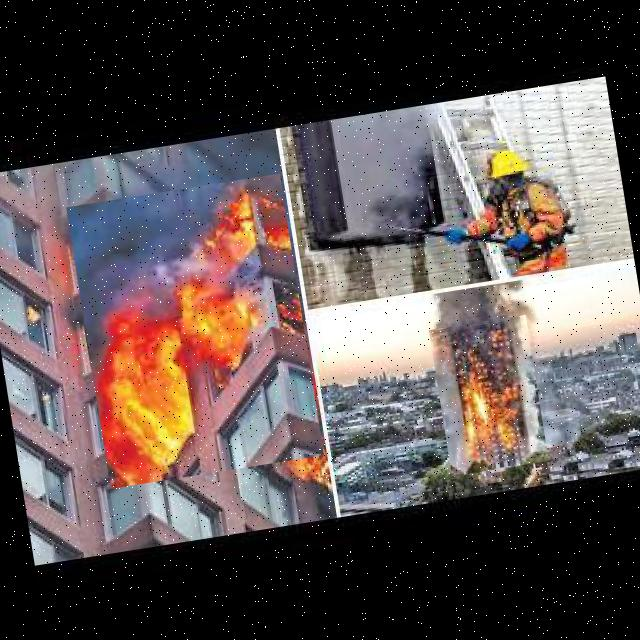fire: (66, 174, 324, 488), (429, 314, 549, 476)
